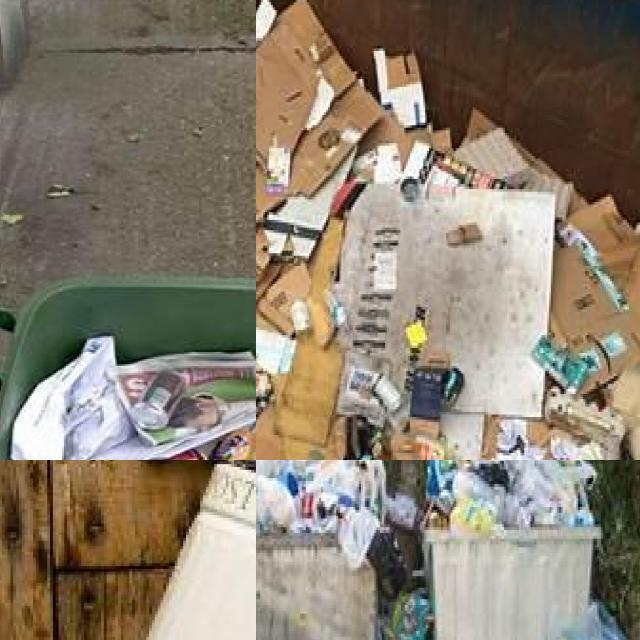Garbage: (256, 0, 640, 460), (18, 337, 256, 460), (256, 460, 386, 560), (420, 460, 604, 528)
Glass_bottle: (373, 374, 402, 413)
can: (130, 370, 185, 429), (209, 428, 256, 460)
contaminated_waste: (256, 460, 386, 571), (434, 460, 600, 525)
